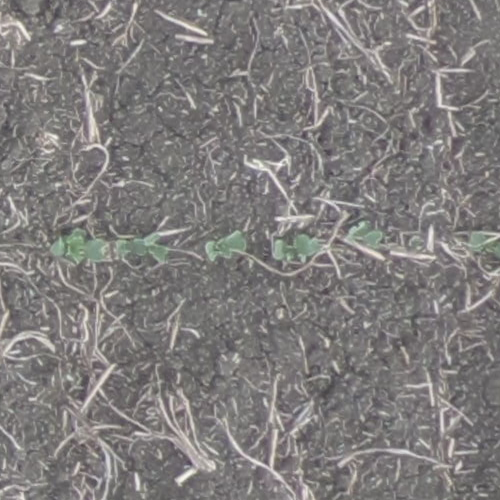isolated: (53, 227, 109, 267), (113, 228, 170, 266), (204, 229, 247, 262), (271, 234, 312, 262), (466, 234, 499, 260)
